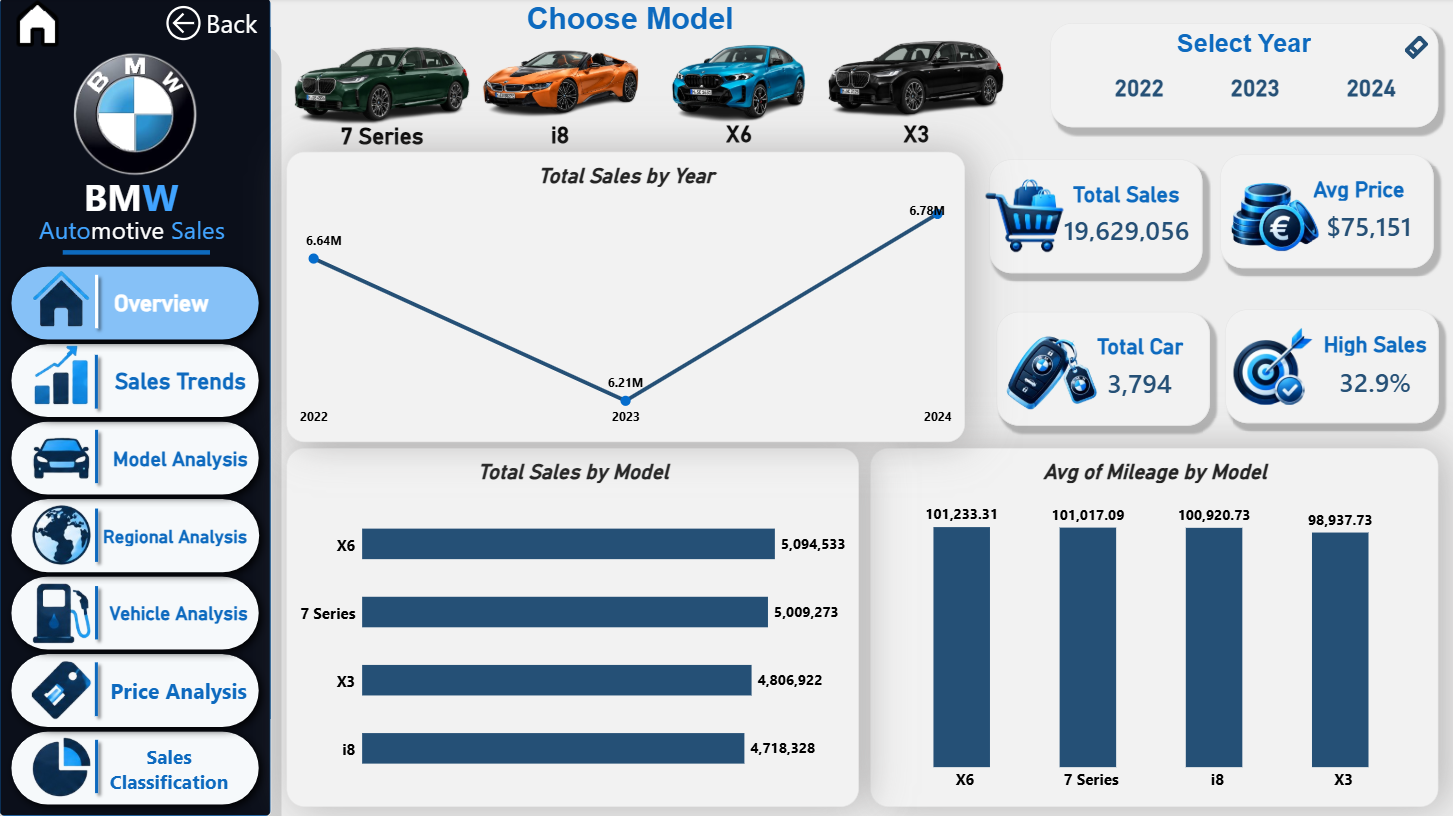

What the dashboard file says about the page in this screenshot:
{"tool":"powerbi","page":{"name":"Overview","canvas":[1920,1080],"ordinal":1},"visuals":[{"type":"shape","box":[0,0,359.5,1080.4],"z":0},{"type":"image","box":[0,39.9,359.5,227],"z":1000},{"type":"textbox","box":[112.6,229.1,148.9,79.9],"z":2000},{"type":"textbox","box":[52.7,283.6,254.2,52.7],"z":3000},{"type":"shape","box":[83.5,309,194.3,54.5],"z":4000},{"type":"actionButton","box":[214.3,1.8,185.2,63.6],"z":5000},{"type":"columnChart","title":"Avg of Mileage by Model","fields":{"Category":["BMW_Car_Sales_Classification.Model"],"Y":["Avg(BMW_Car_Sales_Classification.Mileage_KM)"]},"box":[1149.4,593.7,749.9,473.9],"z":6000},{"type":"barChart","fields":{"Category":["BMW_Car_Sales_Classification.Model"],"Y":["BMW_Car_Sales_Classification.Total Sales"]},"box":[379.5,593.7,755.4,473.9],"z":7000},{"type":"shape","box":[1617.5,410.7,281.4,150.7],"z":8000},{"type":"card","fields":{"Values":["BMW_Car_Sales_Classification.High Sales %"]},"box":[1743.1,477.5,145.3,58.1],"z":9000},{"type":"image","box":[1606.6,425.2,141.6,119.8],"z":10000},{"type":"shape","box":[1735.5,430.7,161.6,50.8],"z":11000},{"type":"shape","box":[1387.2,32.7,512,138],"z":12000},{"type":"image","box":[0,0,101.7,65.4],"z":13000},{"type":"shape","box":[1306.6,213.2,281.4,150.7],"z":14000},{"type":"image","box":[1297.5,227.7,112.6,119.8],"z":15000},{"type":"shape","box":[1401,227.7,174.3,61.7],"z":16000},{"type":"card","title":"Total Sales","fields":{"Values":["BMW_Car_Sales_Classification.Total Sales"]},"box":[1386.5,276.7,201.5,59.9],"z":17000},{"type":"shape","box":[1316.3,413.6,281.4,150.7],"z":18000},{"type":"image","box":[1315.7,426.3,141.6,121.7],"z":19000},{"type":"shape","box":[1424.6,433.6,161.6,50.8],"z":20000},{"type":"card","fields":{"Values":["BMW_Car_Sales_Classification.Total Cars"]},"box":[1433.7,475.4,143.4,67.2],"z":21000},{"type":"shape","box":[1612.1,205.9,281.4,150.7],"z":22000},{"type":"image","box":[1612.7,218.6,141.6,121.7],"z":23000},{"type":"shape","box":[1714.4,225.9,161.6,50.8],"z":24000},{"type":"card","fields":{"Values":["BMW_Car_Sales_Classification.Avg Price"]},"box":[1726.9,268.8,161.6,64.3],"z":25000},{"type":"advancedSlicerVisual","fields":{"Values":["BMW_Car_Sales_Classification.Year"]},"box":[1392.7,69,501.1,101.7],"z":26000},{"type":"image","box":[379.5,40.6,254.2,136.2],"z":27000},{"type":"image","box":[614.3,39.9,254.2,136.2],"z":28000},{"type":"image","box":[849.2,41.8,254.2,136.2],"z":29000},{"type":"image","box":[1084,32.7,254.2,136.2],"z":30000},{"type":"shape","box":[690,1.8,286.9,50.8],"z":31000},{"type":"shape","box":[435.8,156.2,139.8,50.8],"z":32000},{"type":"shape","box":[708.1,154.3,65.4,50.8],"z":33000},{"type":"shape","box":[940.6,152.5,72.6,54.5],"z":34000},{"type":"shape","box":[1165.7,152.5,89,54.5],"z":35000},{"type":"slicer","fields":{"Values":["BMW_Car_Sales_Classification.Model"]},"box":[590.1,248.8,300,300],"z":36000},{"type":"lineChart","fields":{"Category":["BMW_Car_Sales_Classification.Year"],"Y":["BMW_Car_Sales_Classification.Total Sales"]},"box":[379.5,203.4,895.2,383.1],"z":37000},{"type":"shape","box":[1552.5,34.5,181.6,50.8],"z":38000},{"type":"actionButton","box":[1844.8,39.9,52.7,50.8],"z":39000},{"type":"shape","box":[0,951.2,358.9,128.8],"z":40000},{"type":"shape","box":[0,849.1,358.9,128.8],"z":41000},{"type":"shape","box":[0,746.8,358.9,128.8],"z":42000},{"type":"shape","box":[0,644.6,359.5,128.9],"z":43000},{"type":"shape","box":[0,542.2,358.9,128.8],"z":44000},{"type":"shape","box":[0,439.9,358.9,128.8],"z":45000},{"type":"shape","box":[-0.1,337.6,358.9,128.8],"z":46000},{"type":"image","box":[43.6,352.3,79.1,86.5],"z":47000},{"type":"shape","box":[112.6,355.9,33.1,88.3],"z":48000},{"type":"shape","box":[112.6,461.2,32.7,89],"z":49000},{"type":"image","box":[43.6,453.9,79.1,86.5],"z":50000},{"type":"shape","box":[112.6,561.1,33.1,88.3],"z":51000},{"type":"image","box":[43.6,564.7,79.1,86.5],"z":52000},{"type":"image","box":[43.6,664.6,79.1,86.5],"z":53000},{"type":"shape","box":[112.6,664.6,33.1,88.3],"z":54000},{"type":"image","box":[43.6,768.1,79.1,86.5],"z":55000},{"type":"shape","box":[112.6,766.2,33.1,88.3],"z":56000},{"type":"image","box":[43.6,869.7,79.1,86.5],"z":57000},{"type":"shape","box":[112.6,867.9,32.7,89],"z":58000},{"type":"image","box":[43.6,971.4,79.1,86.5],"z":59000},{"type":"shape","box":[112.6,969.6,33.1,88.3],"z":60000}]}

Visuals, with their boxes in screenshot pixels (x1, y1, x2, y2), scaled from the page's 1920x1080 canvas onto the 1453x816 screenshot:
shape: <box>0,0,272,815</box>
image: <box>0,30,272,202</box>
textbox: <box>85,173,198,233</box>
textbox: <box>40,214,232,254</box>
shape: <box>63,233,210,275</box>
actionButton: <box>162,1,302,49</box>
"Avg of Mileage by Model" columnChart: <box>870,449,1437,807</box>
barChart - BMW_Car_Sales_Classification.Model x BMW_Car_Sales_Classification.Total Sales: <box>287,449,859,807</box>
shape: <box>1224,310,1437,424</box>
card - BMW_Car_Sales_Classification.High Sales %: <box>1319,361,1429,405</box>
image: <box>1216,321,1323,412</box>
shape: <box>1313,325,1436,364</box>
shape: <box>1050,25,1437,129</box>
image: <box>0,0,77,49</box>
shape: <box>989,161,1202,275</box>
image: <box>982,172,1067,263</box>
shape: <box>1060,172,1192,219</box>
"Total Sales" card: <box>1049,209,1202,254</box>
shape: <box>996,312,1209,426</box>
image: <box>996,322,1103,414</box>
shape: <box>1078,328,1200,366</box>
card - BMW_Car_Sales_Classification.Total Cars: <box>1085,359,1194,410</box>
shape: <box>1220,156,1433,269</box>
image: <box>1220,165,1328,257</box>
shape: <box>1297,171,1420,209</box>
card - BMW_Car_Sales_Classification.Avg Price: <box>1307,203,1429,252</box>
advancedSlicerVisual - BMW_Car_Sales_Classification.Year: <box>1054,52,1433,129</box>
image: <box>287,31,480,134</box>
image: <box>465,30,657,133</box>
image: <box>643,32,835,134</box>
image: <box>820,25,1013,128</box>
shape: <box>522,1,739,40</box>
shape: <box>330,118,436,156</box>
shape: <box>536,117,585,155</box>
shape: <box>712,115,767,156</box>
shape: <box>882,115,950,156</box>
slicer - BMW_Car_Sales_Classification.Model: <box>447,188,674,415</box>
lineChart - BMW_Car_Sales_Classification.Year x BMW_Car_Sales_Classification.Total Sales: <box>287,154,965,443</box>
shape: <box>1175,26,1312,64</box>
actionButton: <box>1396,30,1436,69</box>
shape: <box>0,719,272,815</box>
shape: <box>0,642,272,739</box>
shape: <box>0,564,272,662</box>
shape: <box>0,487,272,584</box>
shape: <box>0,410,272,507</box>
shape: <box>0,332,272,430</box>
shape: <box>0,255,272,352</box>
image: <box>33,266,93,332</box>
shape: <box>85,269,110,336</box>
shape: <box>85,348,110,416</box>
image: <box>33,343,93,408</box>
shape: <box>85,424,110,491</box>
image: <box>33,427,93,492</box>
image: <box>33,502,93,567</box>
shape: <box>85,502,110,569</box>
image: <box>33,580,93,646</box>
shape: <box>85,579,110,646</box>
image: <box>33,657,93,722</box>
shape: <box>85,656,110,723</box>
image: <box>33,734,93,799</box>
shape: <box>85,733,110,799</box>
